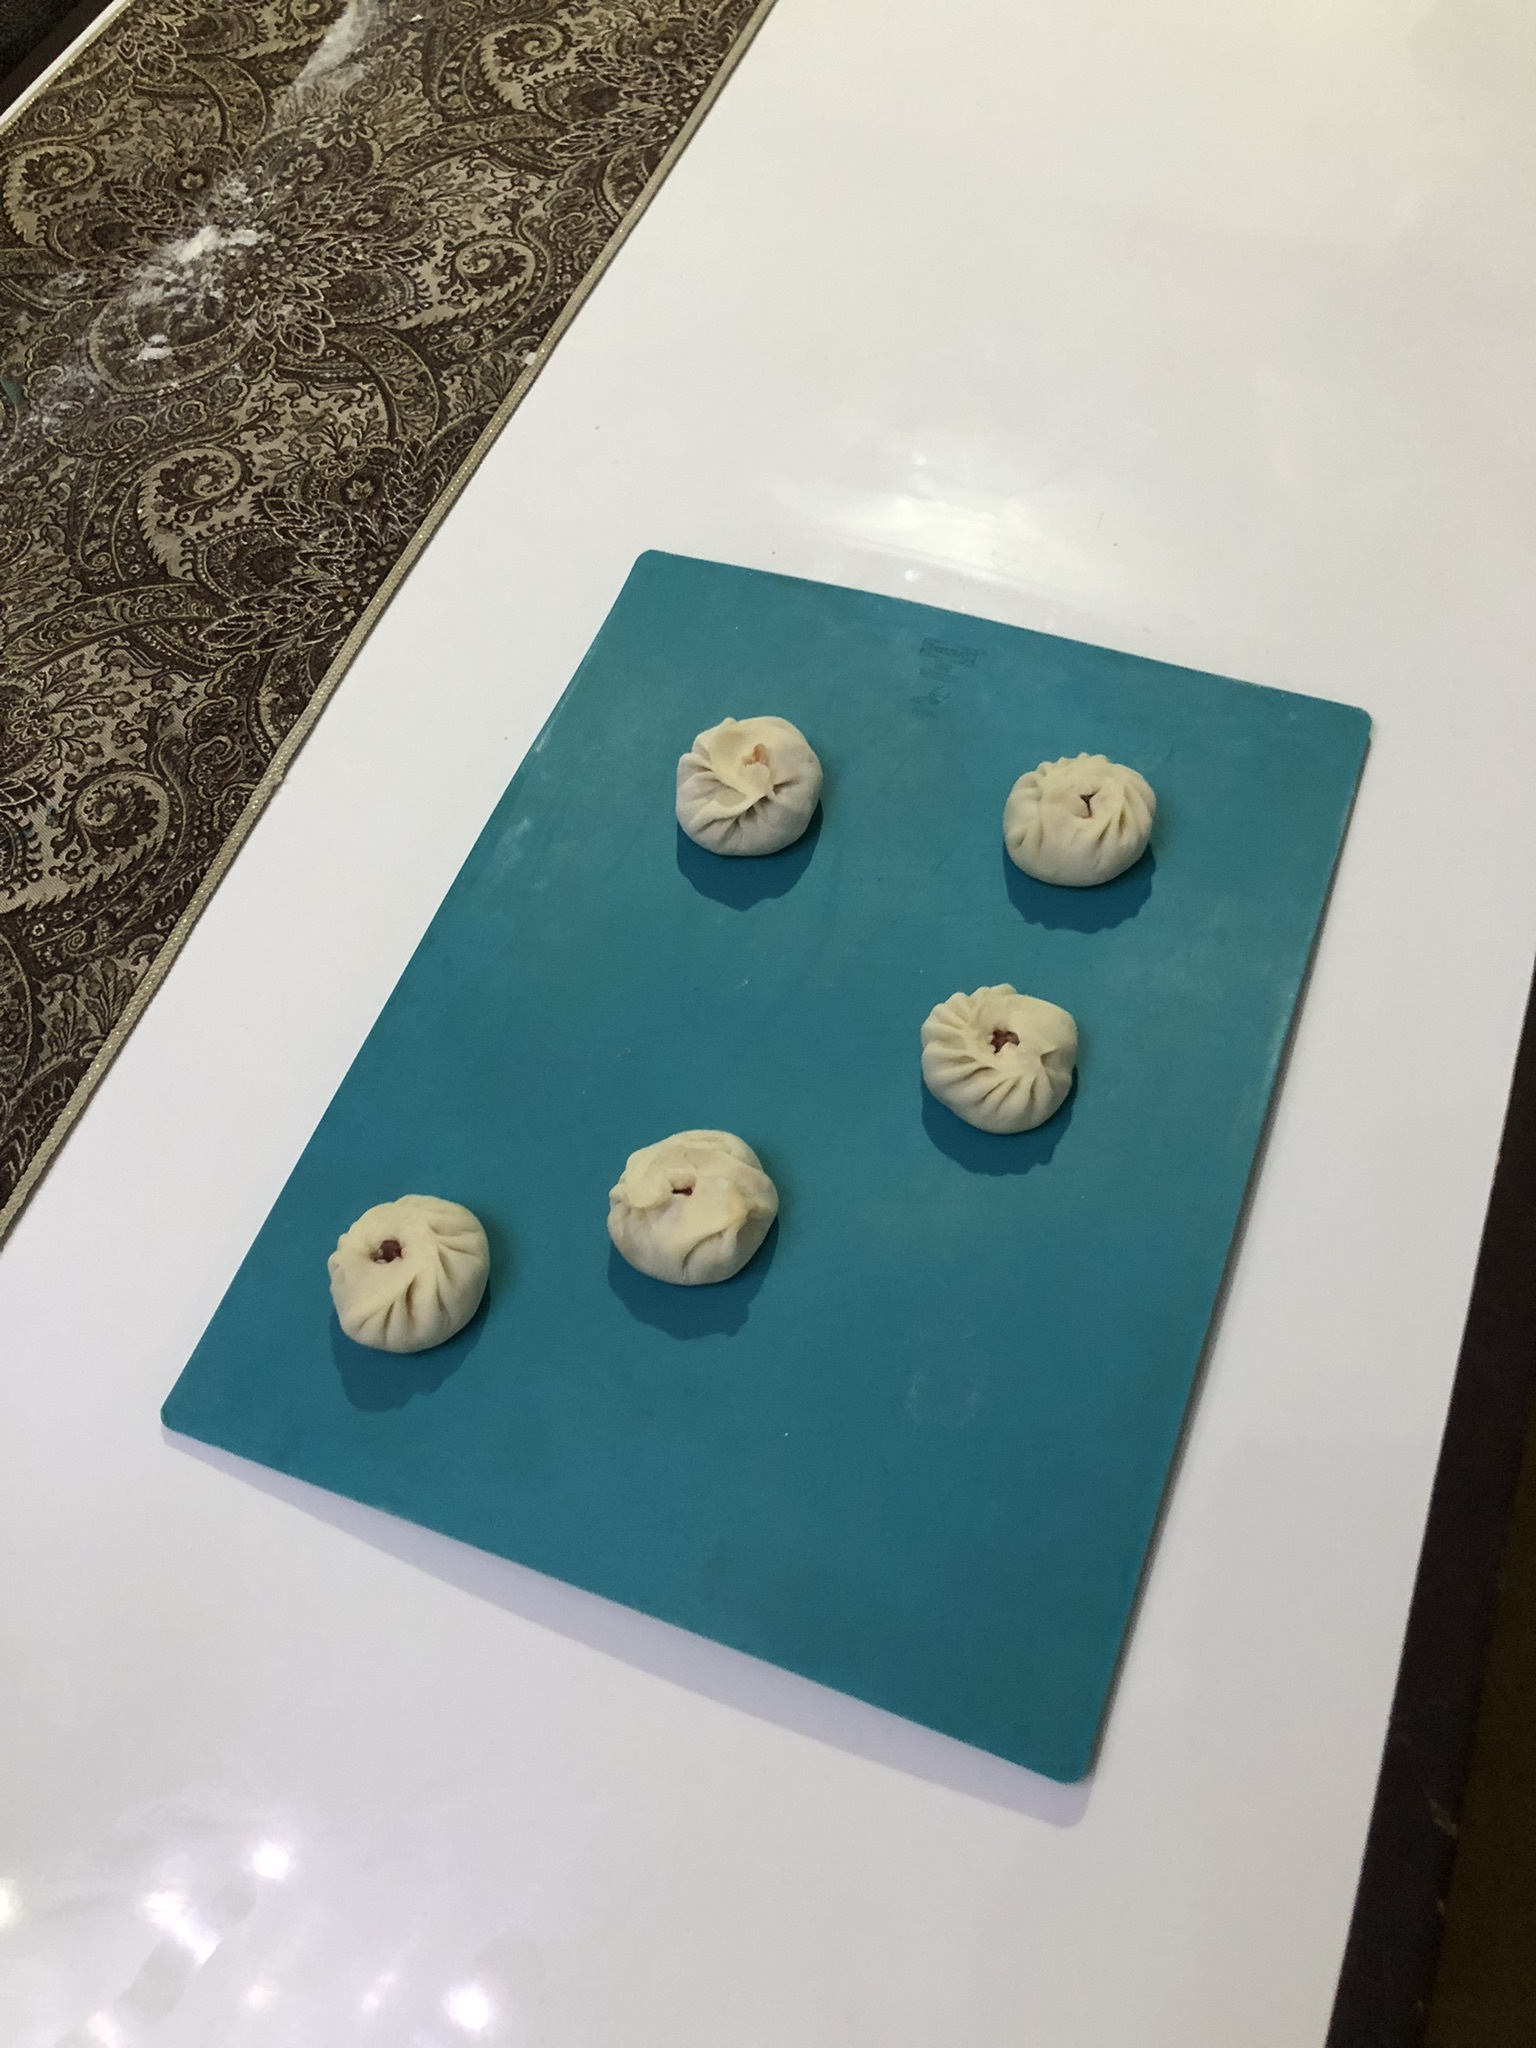buuz: (597, 1118, 794, 1306), (319, 1185, 510, 1367), (908, 971, 1097, 1148), (666, 701, 833, 868), (992, 743, 1165, 893)
